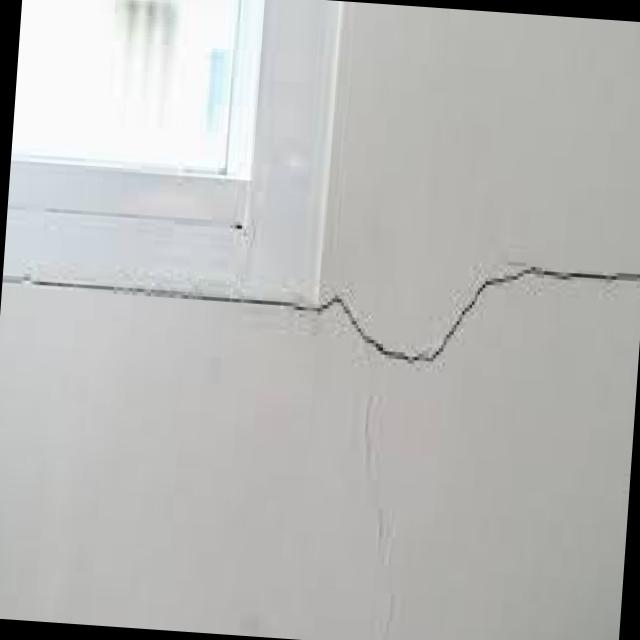crack: (311, 241, 640, 375)
